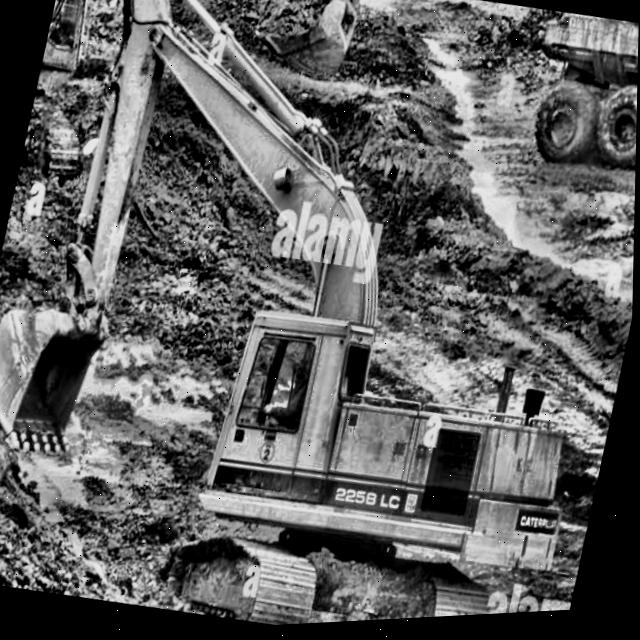dump_truck: (516, 12, 639, 195)
excavator: (0, 0, 640, 640), (26, 0, 375, 198)
